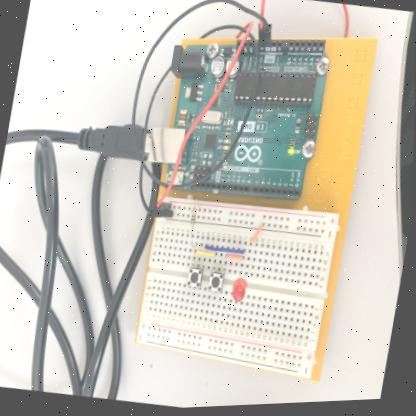5V: (158, 16, 332, 210), (255, 0, 356, 40)
ARDUINO: (164, 45, 332, 204)
Breadboard: (138, 200, 341, 382)
Button: (188, 269, 204, 290), (209, 274, 224, 294)
GND: (126, 1, 271, 159), (142, 20, 271, 195)
LED: (233, 280, 248, 304)
Long wire: (205, 246, 245, 257)
Resistor: (190, 205, 197, 229)
Short wire: (252, 227, 265, 245), (197, 252, 215, 258), (228, 256, 242, 262)
